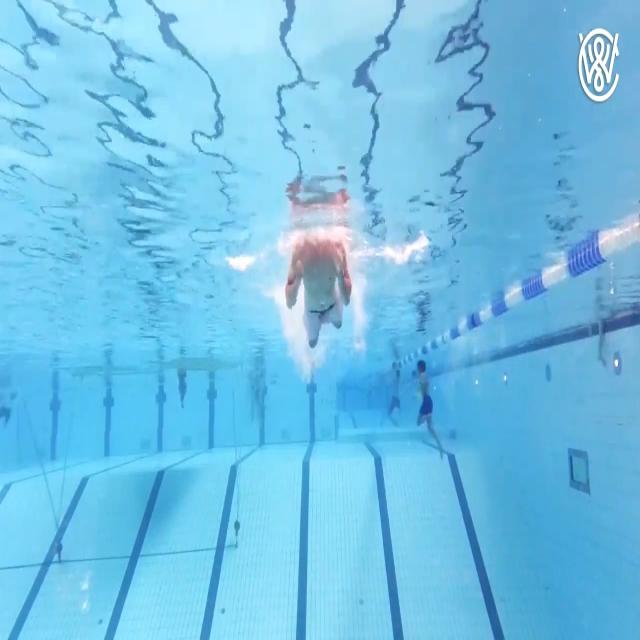Swimming: (284, 234, 356, 348), (412, 356, 442, 458)
